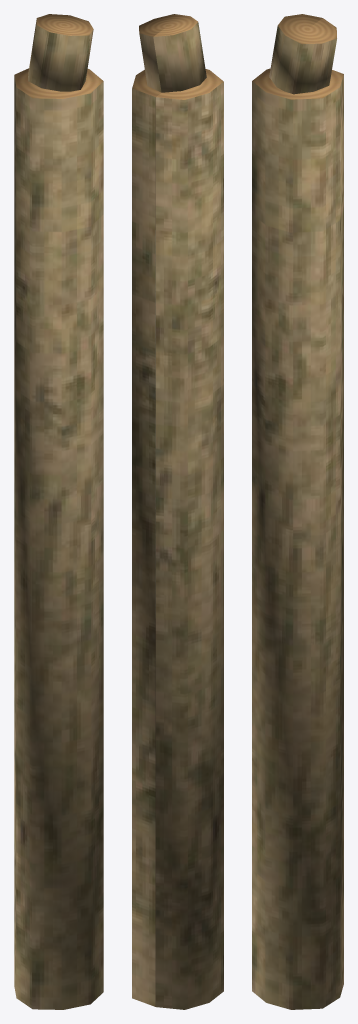
Rendered from junction-post-1.glb.
3 renders of one model, left to right at view 1: azimuth 30°, elevation 25°; view 2: azimuth 150°, elevation 25°; view 3: azimuth 330°, elevation 25°, orthographic.
Visible parts, largest first — view 1: junction-post-1; view 2: junction-post-1; view 3: junction-post-1.
Boxes of the visible parts, bbox=[...] form: junction-post-1: bbox=[14, 14, 103, 1009]; junction-post-1: bbox=[132, 14, 223, 1009]; junction-post-1: bbox=[252, 14, 343, 1009].
Size of the model in its own units: 0.171 by 2.16 by 0.1716.
1 material, 1 textured.
